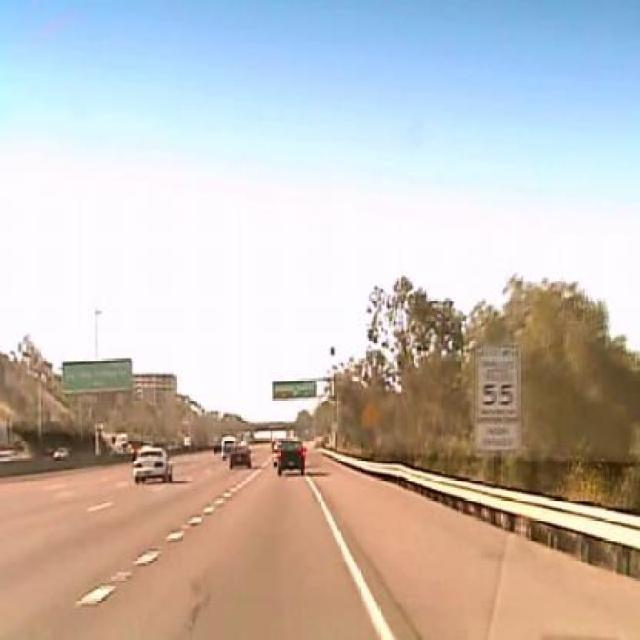truckSpeedLimit55: (476, 338, 522, 420)
